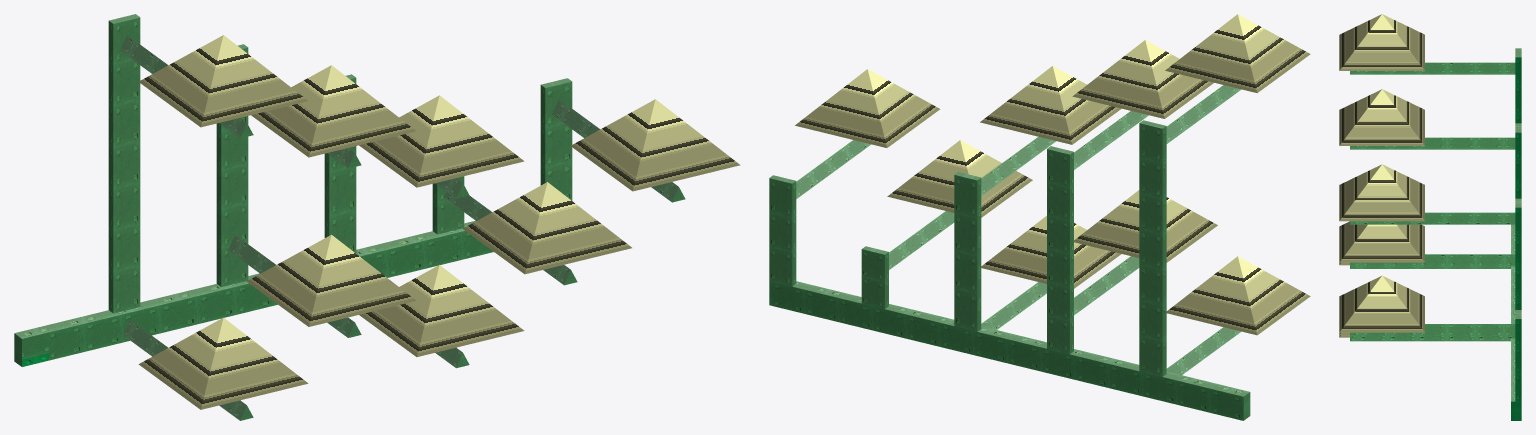
The model's file is rc_dorifu3.glb.
3 views of the same model, side by side, from view 1: azimuth 30°, elevation 25°; view 2: azimuth 150°, elevation 25°; view 3: azimuth 270°, elevation 25° (orthographic). The views are drawn at different scales.
Visible parts, largest first — view 1: rc_dorifu3; view 2: rc_dorifu3; view 3: rc_dorifu3.
Part boxes in pixels (<box>): rc_dorifu3: <box>14,14,740,420</box>; rc_dorifu3: <box>769,14,1310,420</box>; rc_dorifu3: <box>1339,14,1521,420</box>.
Bounding box in the file's own units: 8.59 × 5.18 × 3.32.
Materials: 2 (2 with a texture image).
